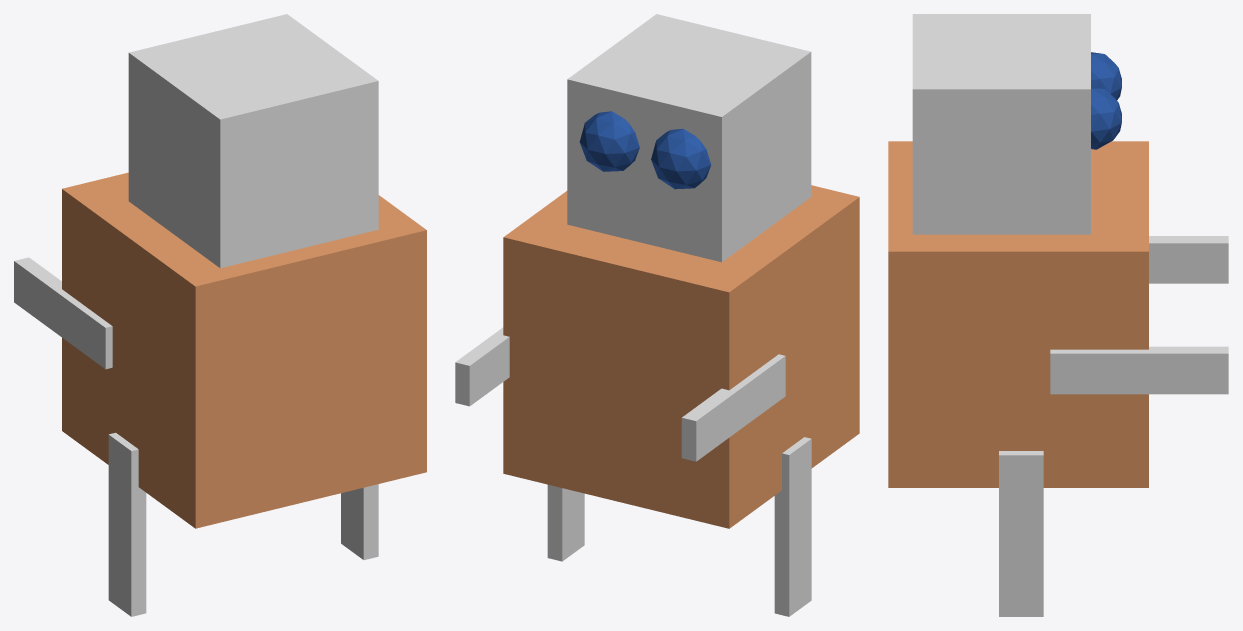
3 renders of one model, left to right at view 1: azimuth 30°, elevation 25°; view 2: azimuth 150°, elevation 25°; view 3: azimuth 270°, elevation 25°, orthographic. The views are drawn at different scales.
Visible parts, largest first — view 1: Body, Head, Left Leg, Left Arm, Right Leg; view 2: Body, Head, Left Leg, Left Arm, Right Arm, Right Eye, Left Eye, Right Leg; view 3: Body, Head, Right Arm, Right Leg, Left Arm, Right Eye, Left Eye.
Boxes of the visible parts, left/top/right/bottom form: Body: left=62, top=172, right=426, bottom=528; Head: left=128, top=14, right=378, bottom=268; Left Leg: left=108, top=432, right=146, bottom=616; Left Arm: left=14, top=257, right=112, bottom=369; Right Leg: left=341, top=484, right=378, bottom=559; Body: left=503, top=185, right=859, bottom=528; Head: left=567, top=14, right=811, bottom=262; Left Leg: left=774, top=437, right=811, bottom=616; Left Arm: left=681, top=354, right=785, bottom=461; Right Arm: left=455, top=327, right=509, bottom=406; Right Eye: left=579, top=111, right=639, bottom=171; Left Eye: left=651, top=128, right=711, bottom=189; Right Leg: left=547, top=484, right=584, bottom=561; Body: left=888, top=141, right=1148, bottom=487; Head: left=912, top=14, right=1090, bottom=234; Right Arm: left=1050, top=346, right=1228, bottom=394; Right Leg: left=999, top=451, right=1043, bottom=616; Left Arm: left=1149, top=236, right=1228, bottom=283; Right Eye: left=1091, top=87, right=1121, bottom=149; Left Eye: left=1091, top=52, right=1121, bottom=99.
Bounding box in the file's own units: 0.7805 × 0.9535 × 1.56.
